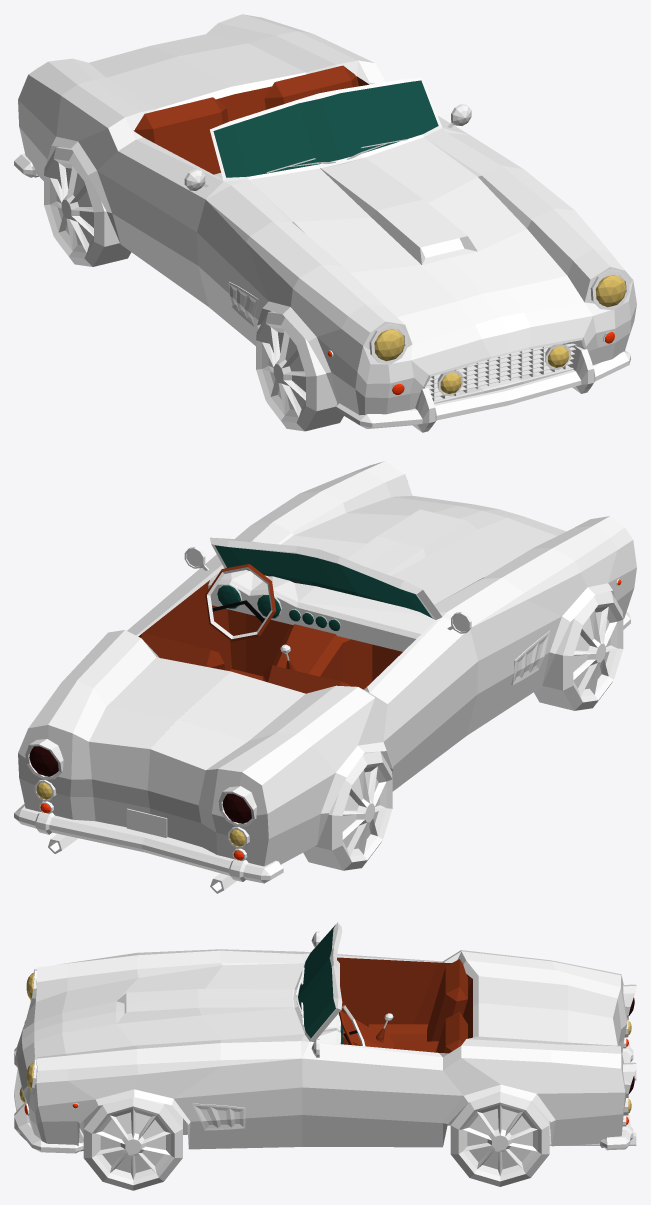
Rendered from Roadster.FBX.
The picture shows the model from 3 angles, top to bottom: view 1: azimuth 30°, elevation 25°; view 2: azimuth 150°, elevation 25°; view 3: azimuth 270°, elevation 25°; orthographic projection. The views are drawn at different scales.
Visible parts, largest first — view 1: Cabrio, wheel_f_r, interieur, wheel_b_r, headLights, lights, mirrors; view 2: Cabrio, interieur, wheel_f_r, wheel_b_r, lights, steeringWheel, tailLights, mirrors, exhausts; view 3: Cabrio, wheel_f_l, wheel_b_l, interieur, lights, steeringWheel.
Boxes of the visible parts, x1,y1,x2,y2 form: Cabrio: (14,14,636,432); wheel_f_r: (256,311,343,431); interieur: (135,65,357,179); wheel_b_r: (44,147,131,266); headLights: (374,275,625,393); lights: (34,67,629,396); mirrors: (184,104,471,190); Cabrio: (14,461,636,883); interieur: (138,570,435,693); wheel_f_r: (534,591,623,710); wheel_b_r: (303,751,392,870); lights: (25,463,622,861); steeringWheel: (205,564,276,641); tailLights: (29,746,251,823); mirrors: (184,547,471,633); exhausts: (48,834,236,893); Cabrio: (14,922,633,1153); wheel_f_l: (83,1097,182,1190); wheel_b_l: (450,1091,549,1186); interieur: (317,959,467,1053); lights: (25,969,636,1126); steeringWheel: (339,1003,365,1046).
Bounding box in the file's own units: 28.06 × 17.46 × 56.69.
